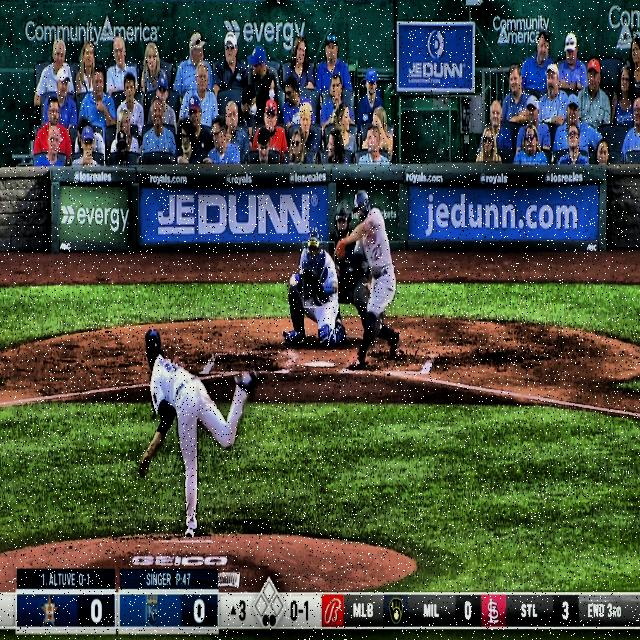baseball: (290, 276, 296, 287)
